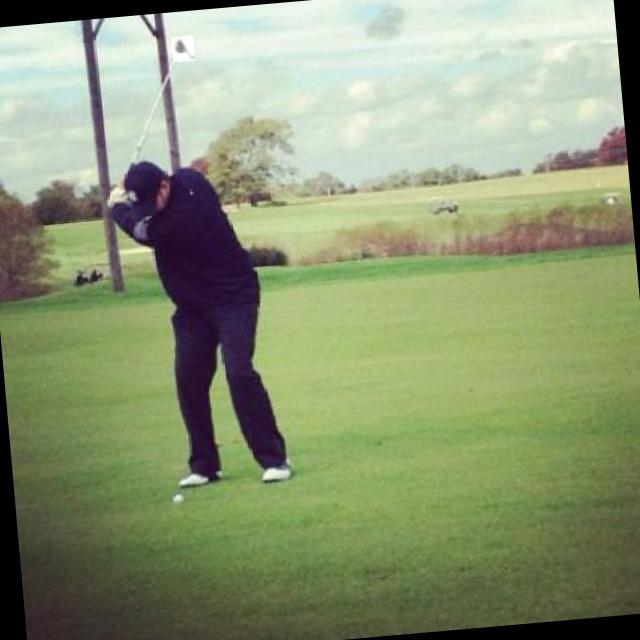club head: (171, 35, 195, 62)
